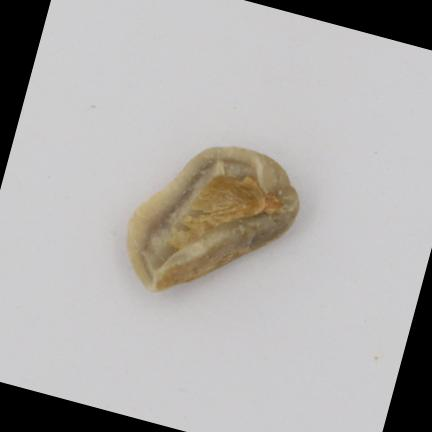shell: (127, 147, 299, 291)
